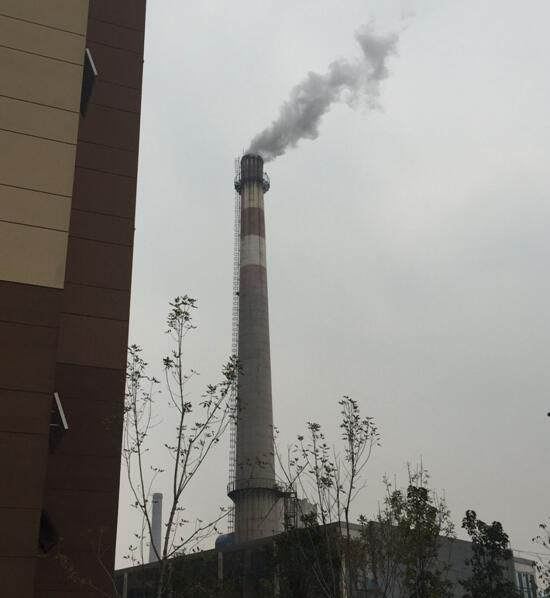dust: (219, 33, 395, 172)
